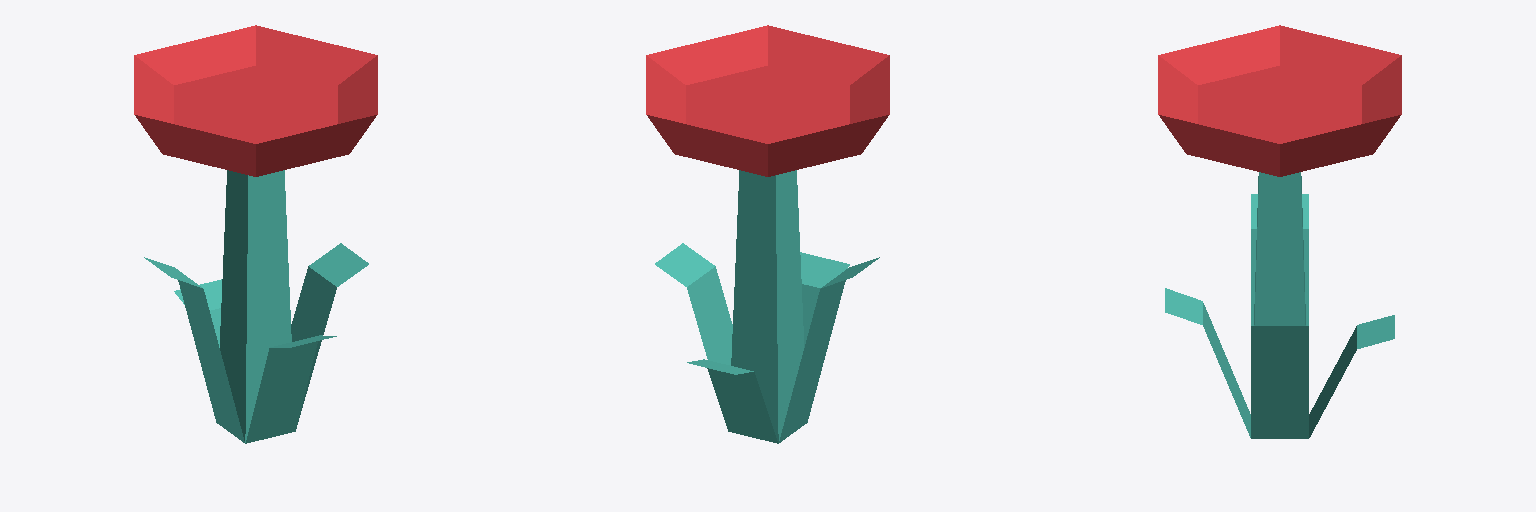
Rendered from flower_red3.obj.
The picture shows the model from 3 angles: view 1: azimuth 30°, elevation 25°; view 2: azimuth 150°, elevation 25°; view 3: azimuth 270°, elevation 25°; orthographic projection.
Visible parts, largest first — view 1: flower_red3; view 2: flower_red3; view 3: flower_red3.
Part boxes in pixels (x1,y1,x2,y2): flower_red3: (134,25,377,443); flower_red3: (646,25,889,443); flower_red3: (1158,25,1401,438).
Bounding box in the file's own units: 1.51 × 2.03 × 1.31.